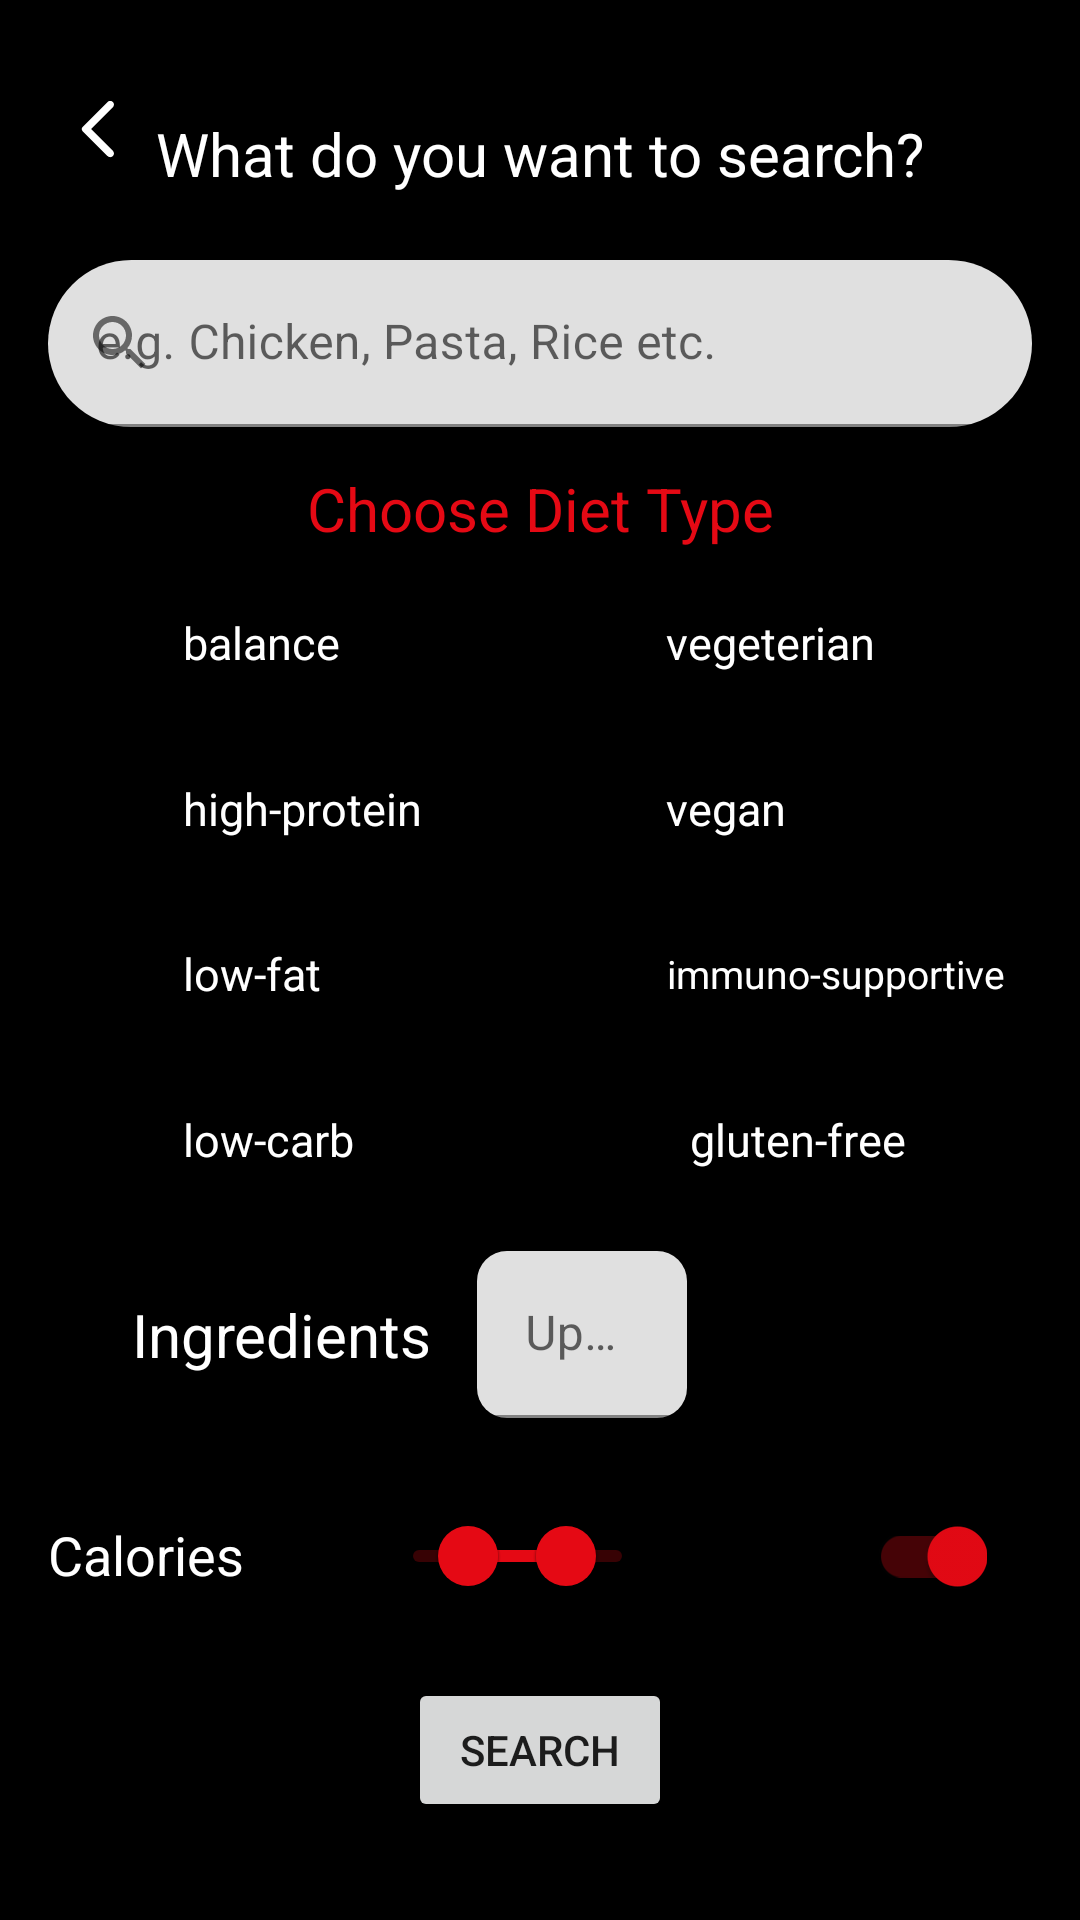

Where icons sit on this 1080×1920 app screen, as box(x1, y1, x2, y2):
arrow back: box(81, 101, 114, 158)
